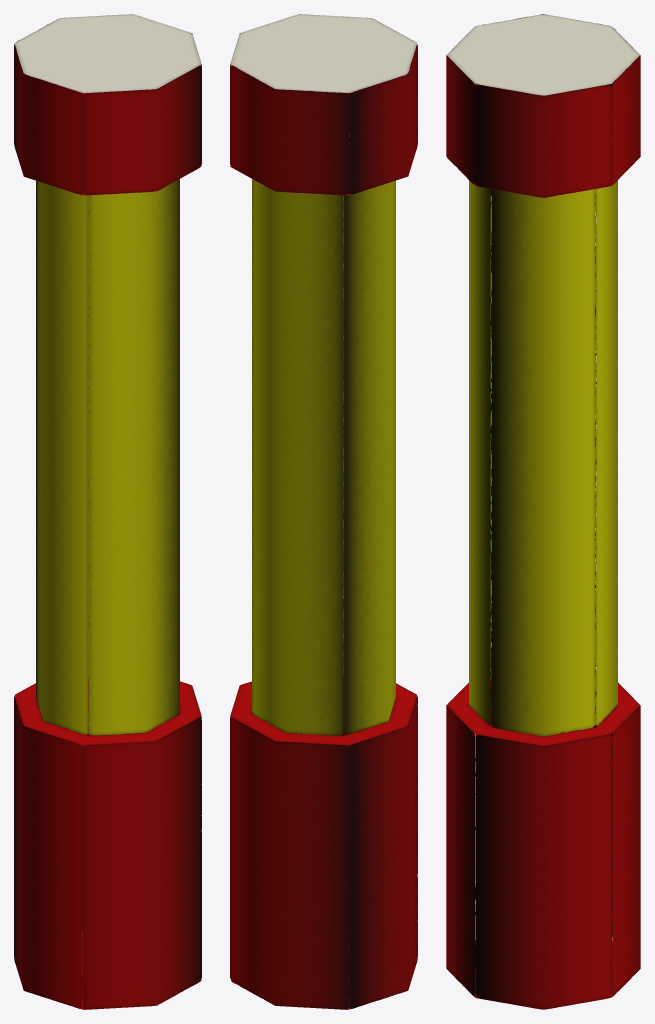
Rendered from flare.obj.
3 renders of one model, left to right at view 1: azimuth 30°, elevation 25°; view 2: azimuth 150°, elevation 25°; view 3: azimuth 270°, elevation 25°, orthographic.
Visible parts, largest first — view 1: Flare; view 2: Flare; view 3: Flare.
Boxes of the visible parts, x1=… form: Flare: x1=14, y1=14, x2=201, y2=1009; Flare: x1=230, y1=14, x2=417, y2=1009; Flare: x1=446, y1=14, x2=640, y2=1009.
Size of the model in its own units: 0.156 by 0.8108 by 0.156.
1 material, 1 textured.
